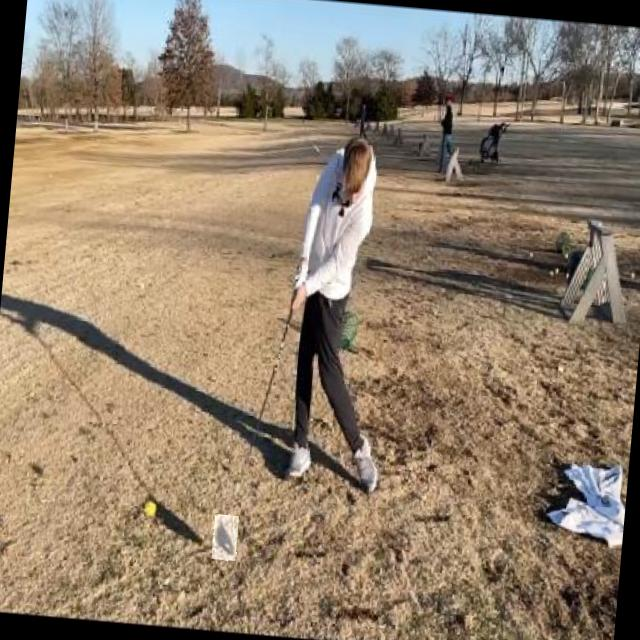club head: (210, 514, 238, 560)
